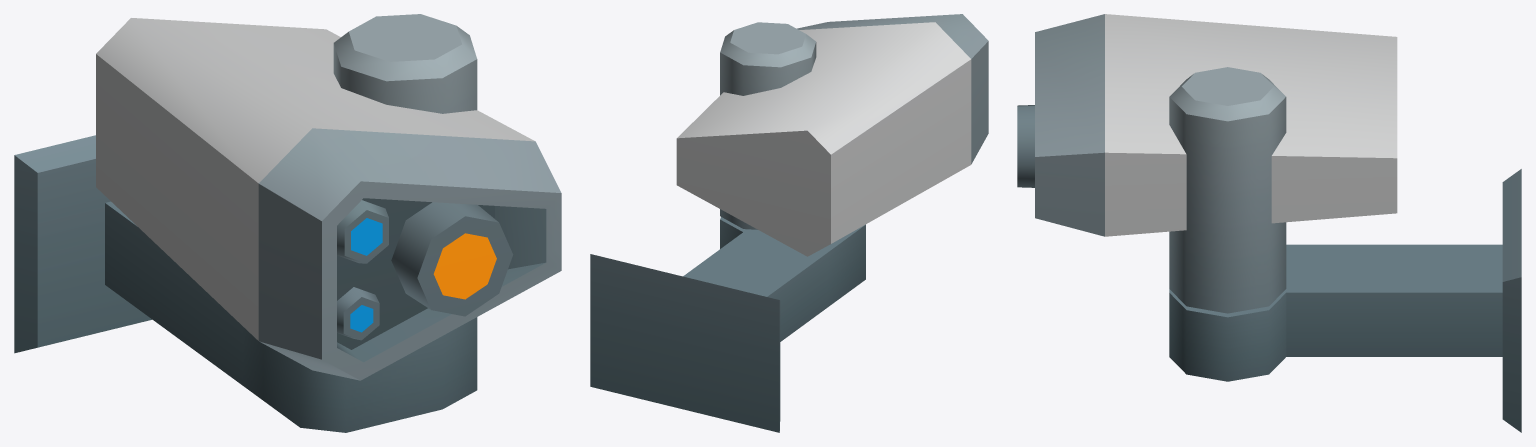
Rendered from Security_cam_009.glb.
3 views of the same model, side by side, from view 1: azimuth 30°, elevation 25°; view 2: azimuth 150°, elevation 25°; view 3: azimuth 270°, elevation 25° (orthographic). The views are drawn at different scales.
Parts seen in each view (by area): view 1: Cam_009, Security_cam_009; view 2: Cam_009, Security_cam_009; view 3: Cam_009, Security_cam_009.
Part boxes in pixels (box(x1,y1,x2,y2)): Cam_009: box(96, 14, 561, 380); Security_cam_009: box(14, 135, 477, 432); Cam_009: box(676, 14, 988, 256); Security_cam_009: box(590, 217, 865, 432); Cam_009: box(1017, 14, 1397, 313); Security_cam_009: box(1169, 169, 1521, 432).
Bounding box in the file's own units: 0.235 × 0.3041 × 0.4301.
2 materials, 2 textured.
